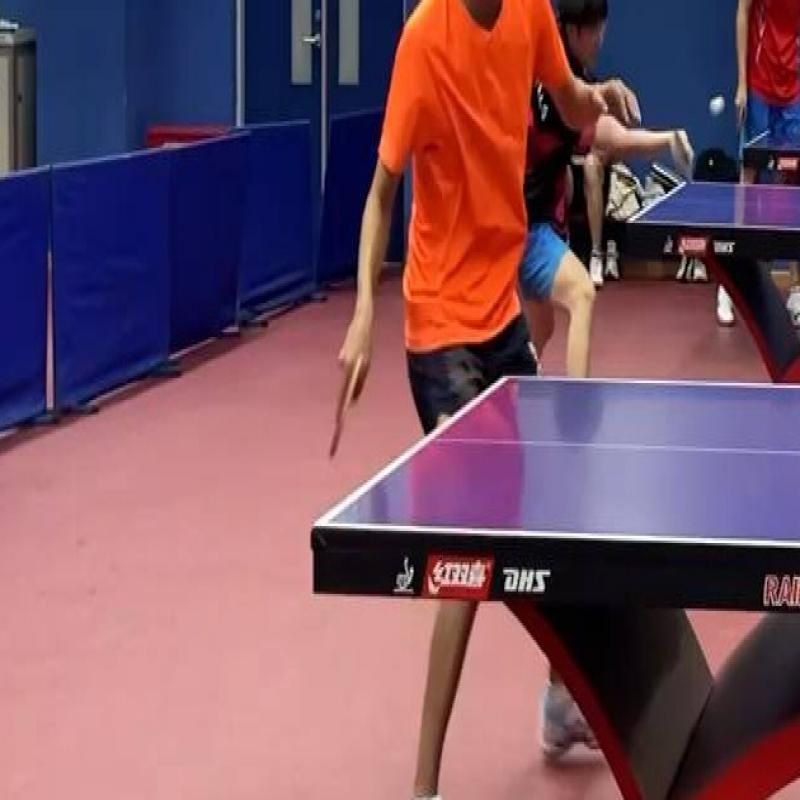bats: (324, 354, 363, 463)
